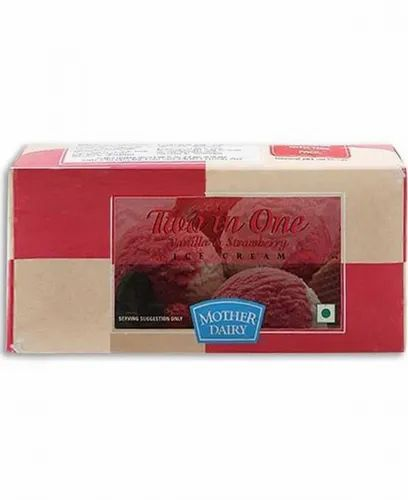Mother_Dairy: (186, 294, 270, 351)
